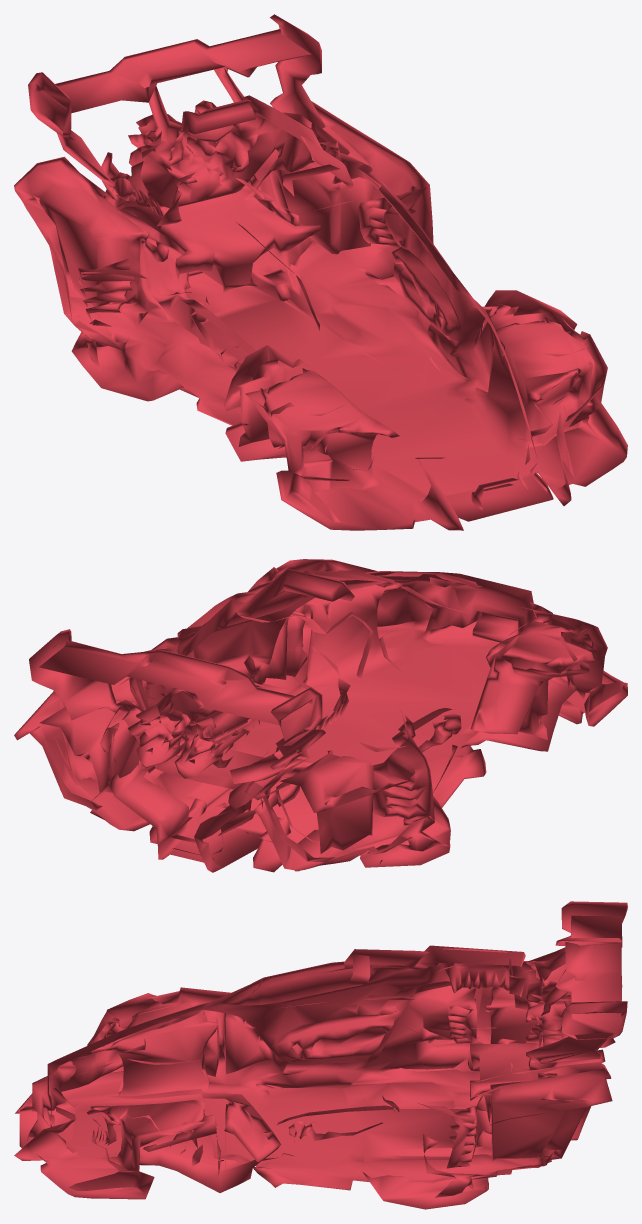
The model's file is stormblade.glb.
3 renders of one model, top to bottom at view 1: azimuth 30°, elevation 25°; view 2: azimuth 150°, elevation 25°; view 3: azimuth 270°, elevation 25°, orthographic. The views are drawn at different scales.
Parts seen in each view (by area): view 1: geometry_0; view 2: geometry_0; view 3: geometry_0.
Boxes of the visible parts, x1,y1,x2,y2 form: geometry_0: (14, 14, 627, 530); geometry_0: (14, 559, 627, 872); geometry_0: (14, 901, 627, 1209).
Bounding box in the file's own units: 2.42 × 1.42 × 4.2.
